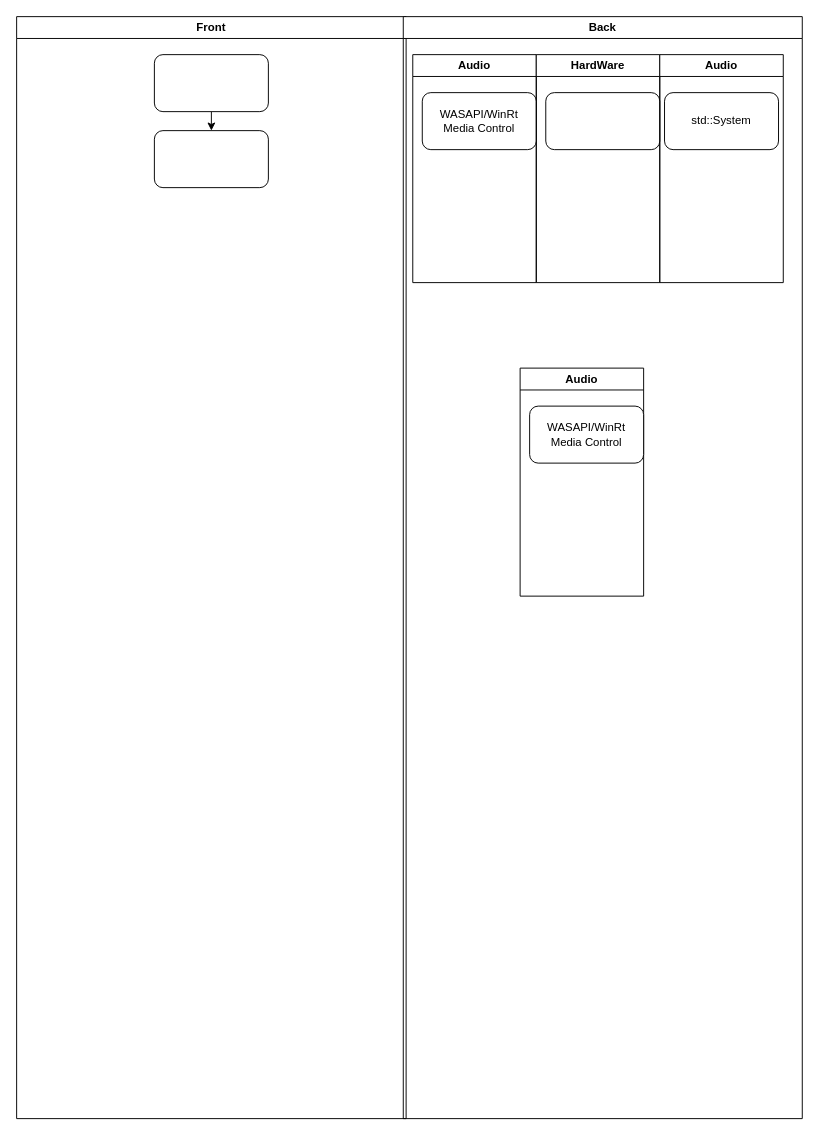
Some shapes in this 819 by 1135 pixel diagram are drawn without their labels. Each missing label, with the centre of its shape:
Ui: point 210,159
WMI: point 602,121
XAML: point 210,83
